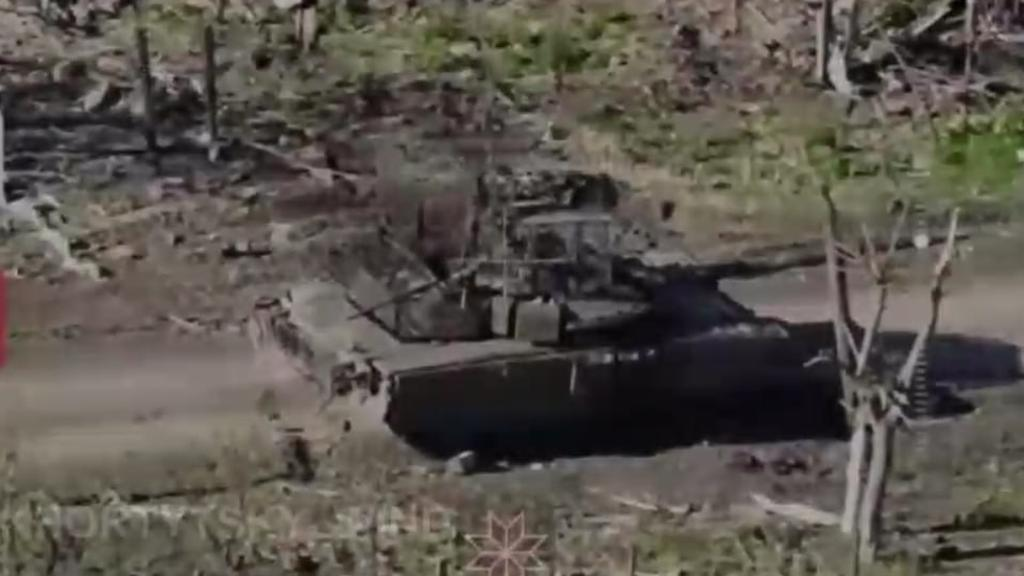TANK: (256, 158, 972, 455)
